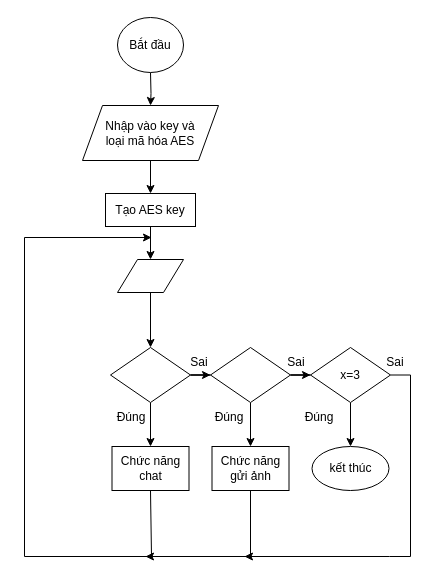
Image size: 443x582. Some labels were removed from this diagram. The shapes that lost their labels are listed below. From the top down, each one's box as (x1, y1, x2, y2) in pixels, then its label:
(116, 258, 184, 292): Nhập x
(110, 346, 190, 402): x=1
(210, 346, 290, 402): x=2
